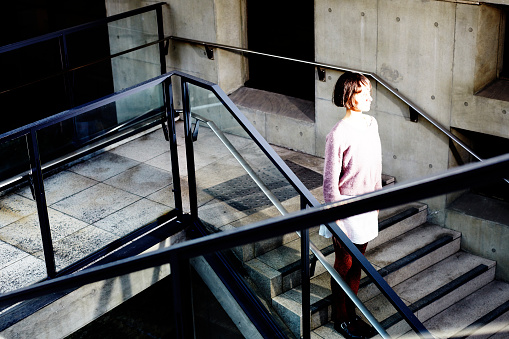em pe: (316, 62, 385, 226)
